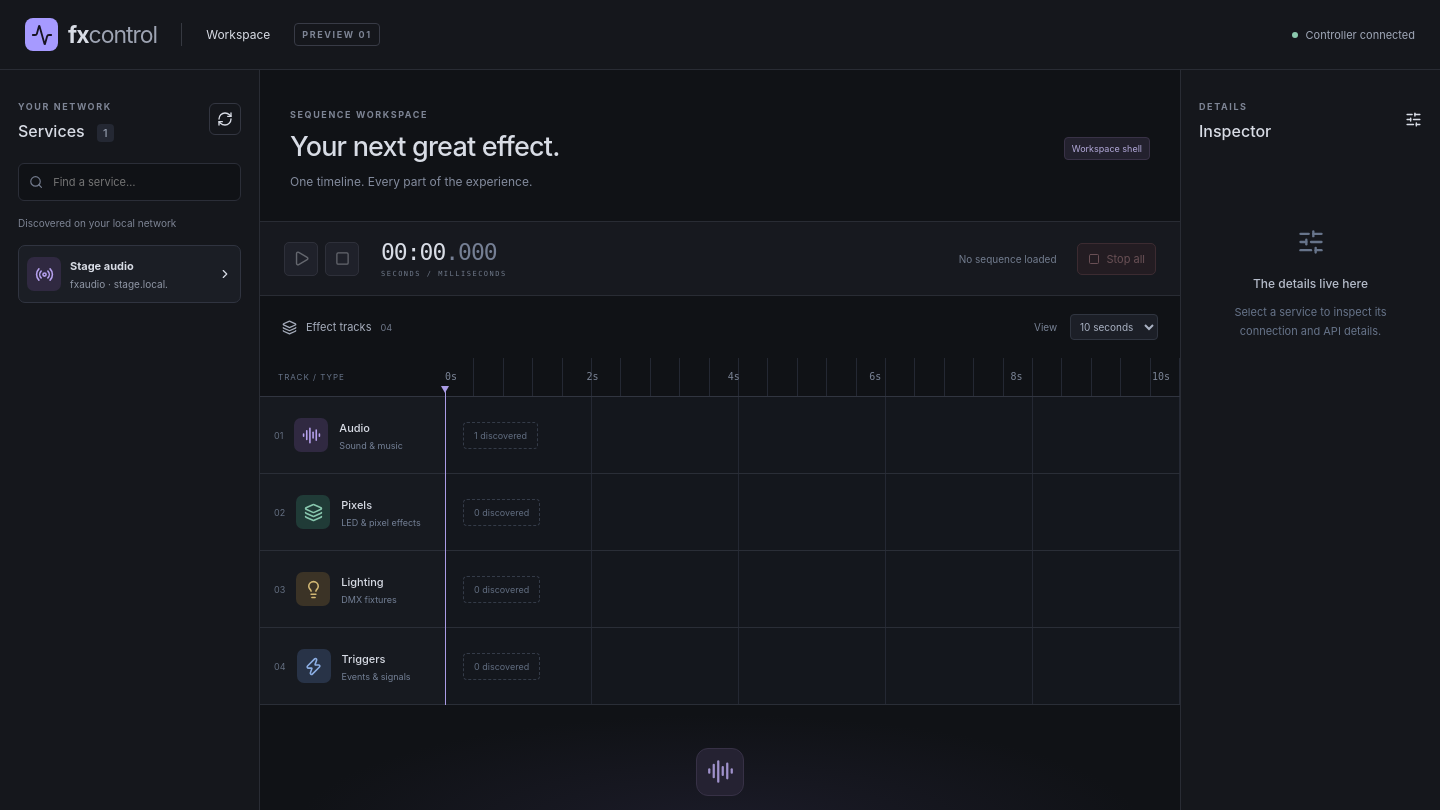
Scenario: workspace discovery › loads discovery, filters services, and inspects advertised metadata
Click the button "Stage audio fxaudio · stage.local." at {"x": 130, "y": 274}, box [18,245,241,303]
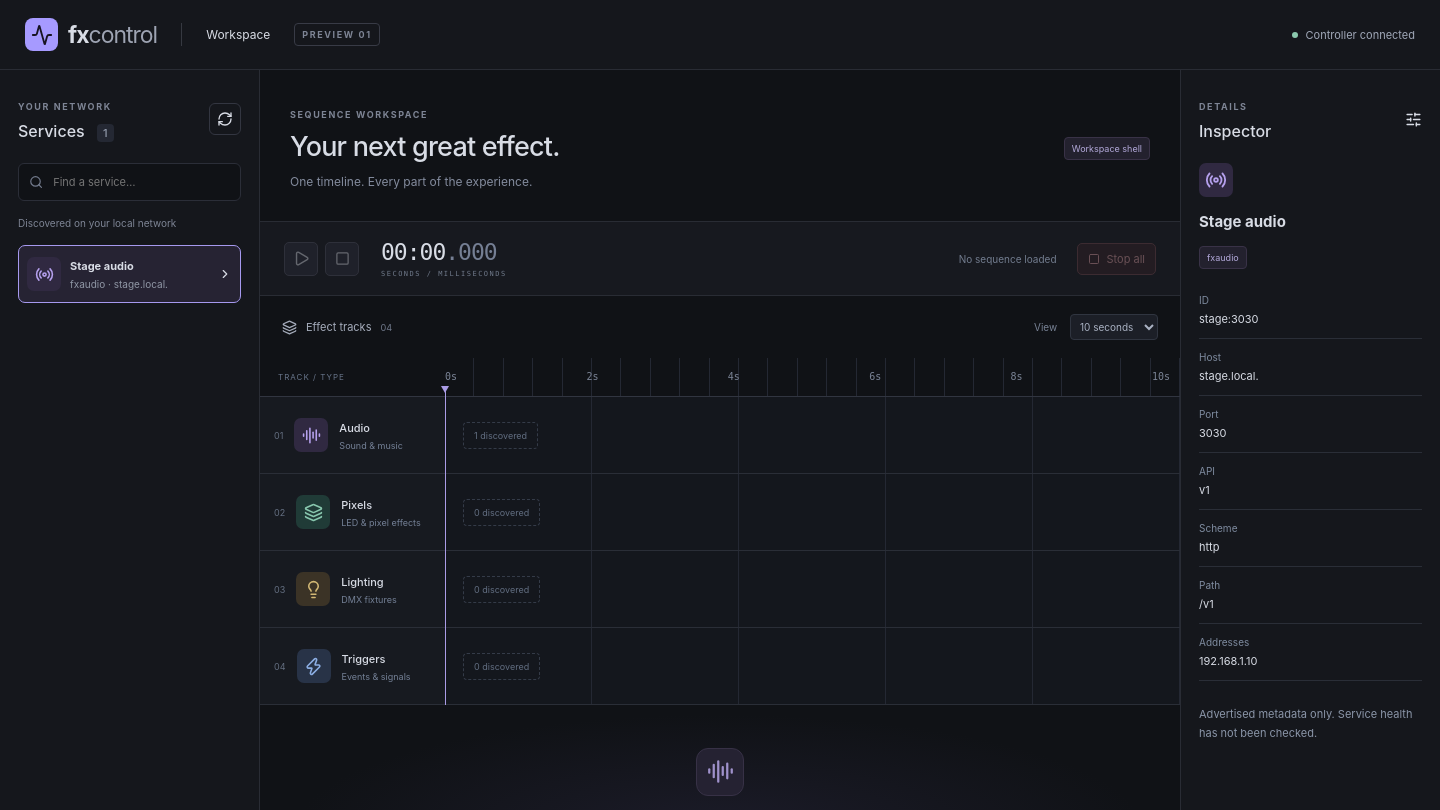
Check: the text "192.168.1.10" is shown, box [1199,654,1257,668]
Type "missing" into the field named "Search services" at {"x": 141, "y": 182}, box [51,174,230,190]
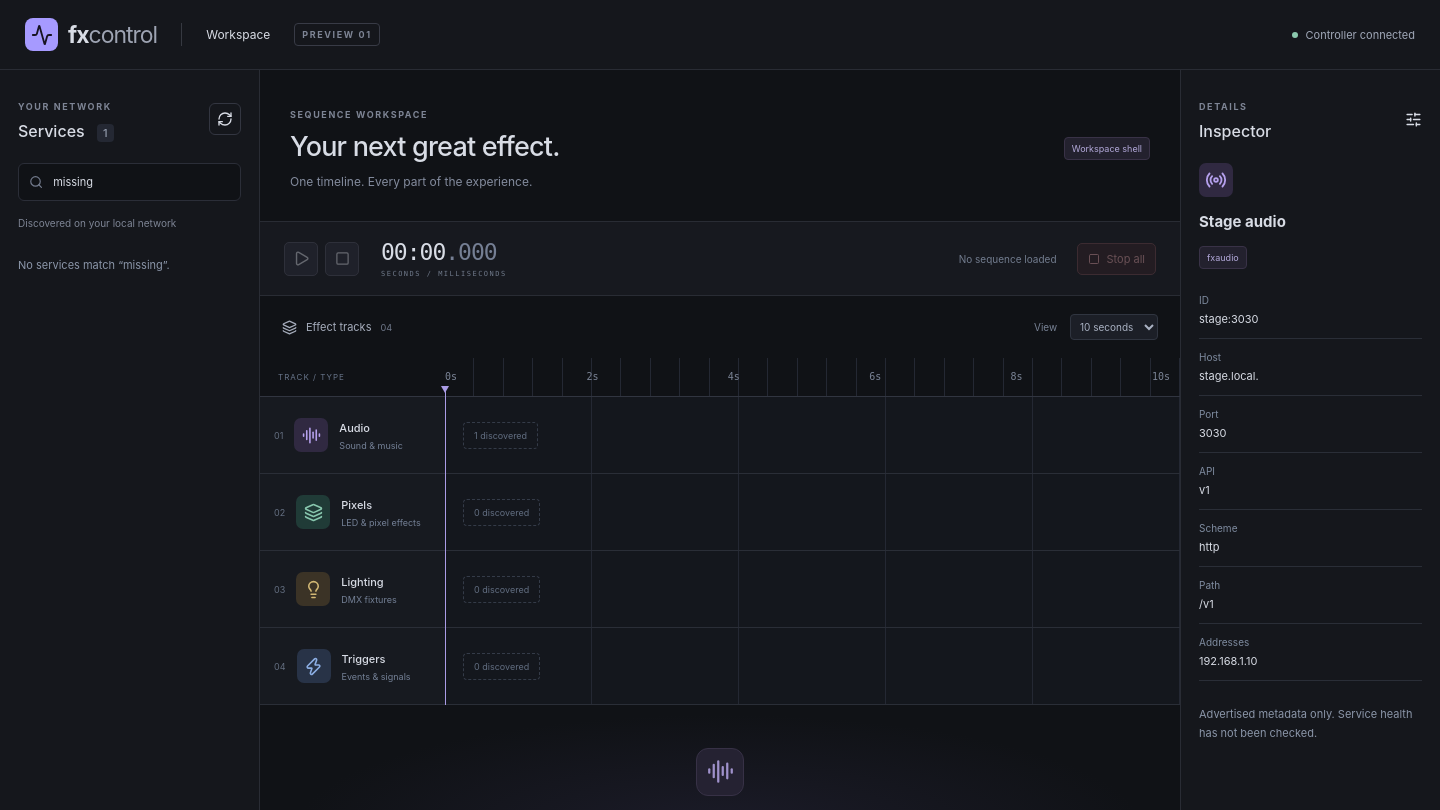
Check: the button named "Play sequence" is disabled, box [284,242,318,276]
Check: the text "No services match “missing”." is shown, box [18,258,170,272]
